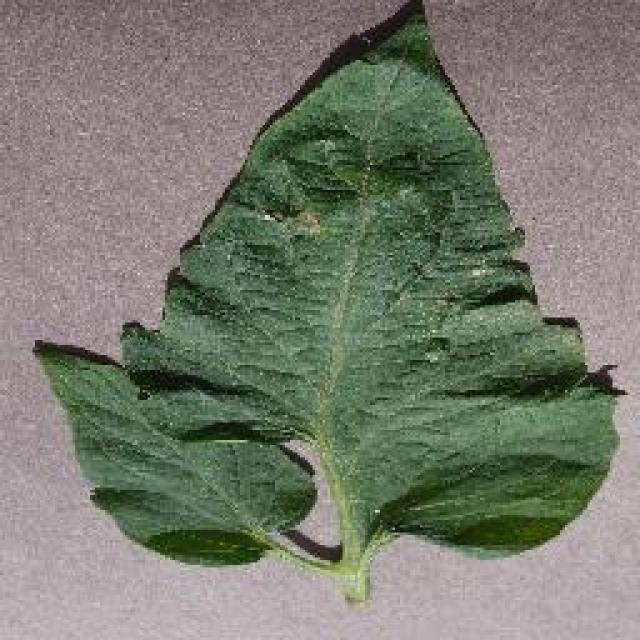Tomato Septoria spot leaf: (123, 12, 615, 558), (36, 344, 316, 576)
